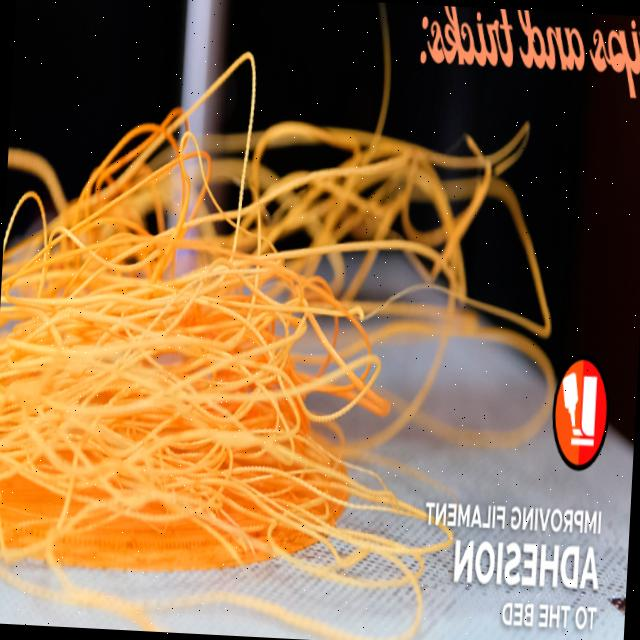spaghetti: (0, 37, 553, 632)
